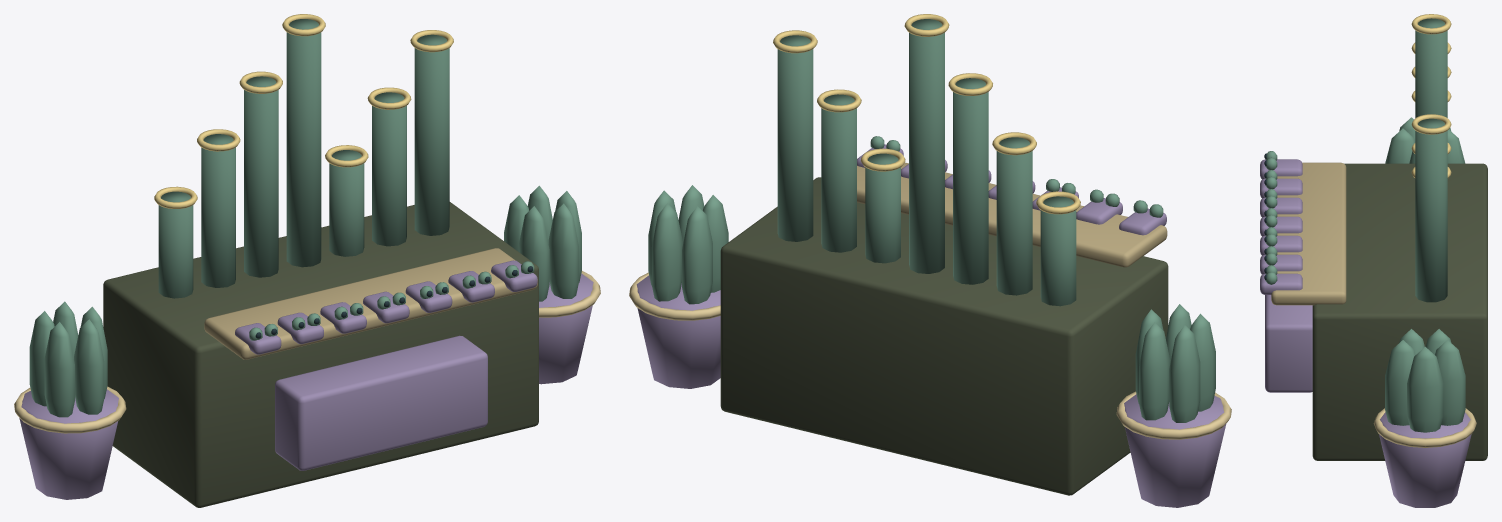
Rendered from discovery_reed-organ.glb.
3 renders of one model, left to right at view 1: azimuth 30°, elevation 25°; view 2: azimuth 150°, elevation 25°; view 3: azimuth 270°, elevation 25°, orthographic. The views are drawn at different scales.
Parts seen in each view (by area): view 1: discovery_reed-organ_part_0, discovery_reed-organ_part_8, discovery_reed-organ_part_7, discovery_reed-organ_part_3, discovery_reed-organ_part_6, discovery_reed-organ_part_5, discovery_reed-organ_part_2, discovery_reed-organ_part_4, discovery_reed-organ_part_1; view 2: discovery_reed-organ_part_0, discovery_reed-organ_part_1, discovery_reed-organ_part_2; view 3: discovery_reed-organ_part_0, discovery_reed-organ_part_8, discovery_reed-organ_part_7, discovery_reed-organ_part_4, discovery_reed-organ_part_5, discovery_reed-organ_part_6, discovery_reed-organ_part_1, discovery_reed-organ_part_2, discovery_reed-organ_part_3.
Part boxes in pixels (<box>): discovery_reed-organ_part_0: <box>14,14,600,507</box>; discovery_reed-organ_part_8: <box>275,335,487,470</box>; discovery_reed-organ_part_7: <box>491,260,537,291</box>; discovery_reed-organ_part_3: <box>320,302,366,333</box>; discovery_reed-organ_part_6: <box>448,271,494,302</box>; discovery_reed-organ_part_5: <box>405,281,452,312</box>; discovery_reed-organ_part_2: <box>277,312,323,344</box>; discovery_reed-organ_part_4: <box>363,291,409,323</box>; discovery_reed-organ_part_1: <box>235,323,281,354</box>; discovery_reed-organ_part_0: <box>629,14,1231,507</box>; discovery_reed-organ_part_1: <box>1119,200,1166,235</box>; discovery_reed-organ_part_2: <box>1076,189,1122,224</box>; discovery_reed-organ_part_0: <box>1271,14,1487,507</box>; discovery_reed-organ_part_8: <box>1265,295,1312,392</box>; discovery_reed-organ_part_7: <box>1260,265,1302,294</box>; discovery_reed-organ_part_4: <box>1260,208,1302,236</box>; discovery_reed-organ_part_5: <box>1260,227,1302,255</box>; discovery_reed-organ_part_6: <box>1260,246,1302,274</box>; discovery_reed-organ_part_1: <box>1260,151,1302,179</box>; discovery_reed-organ_part_2: <box>1260,170,1302,198</box>; discovery_reed-organ_part_3: <box>1260,189,1302,217</box>.
Bounding box in the file's own units: 4.82 × 3.24 × 1.82.
